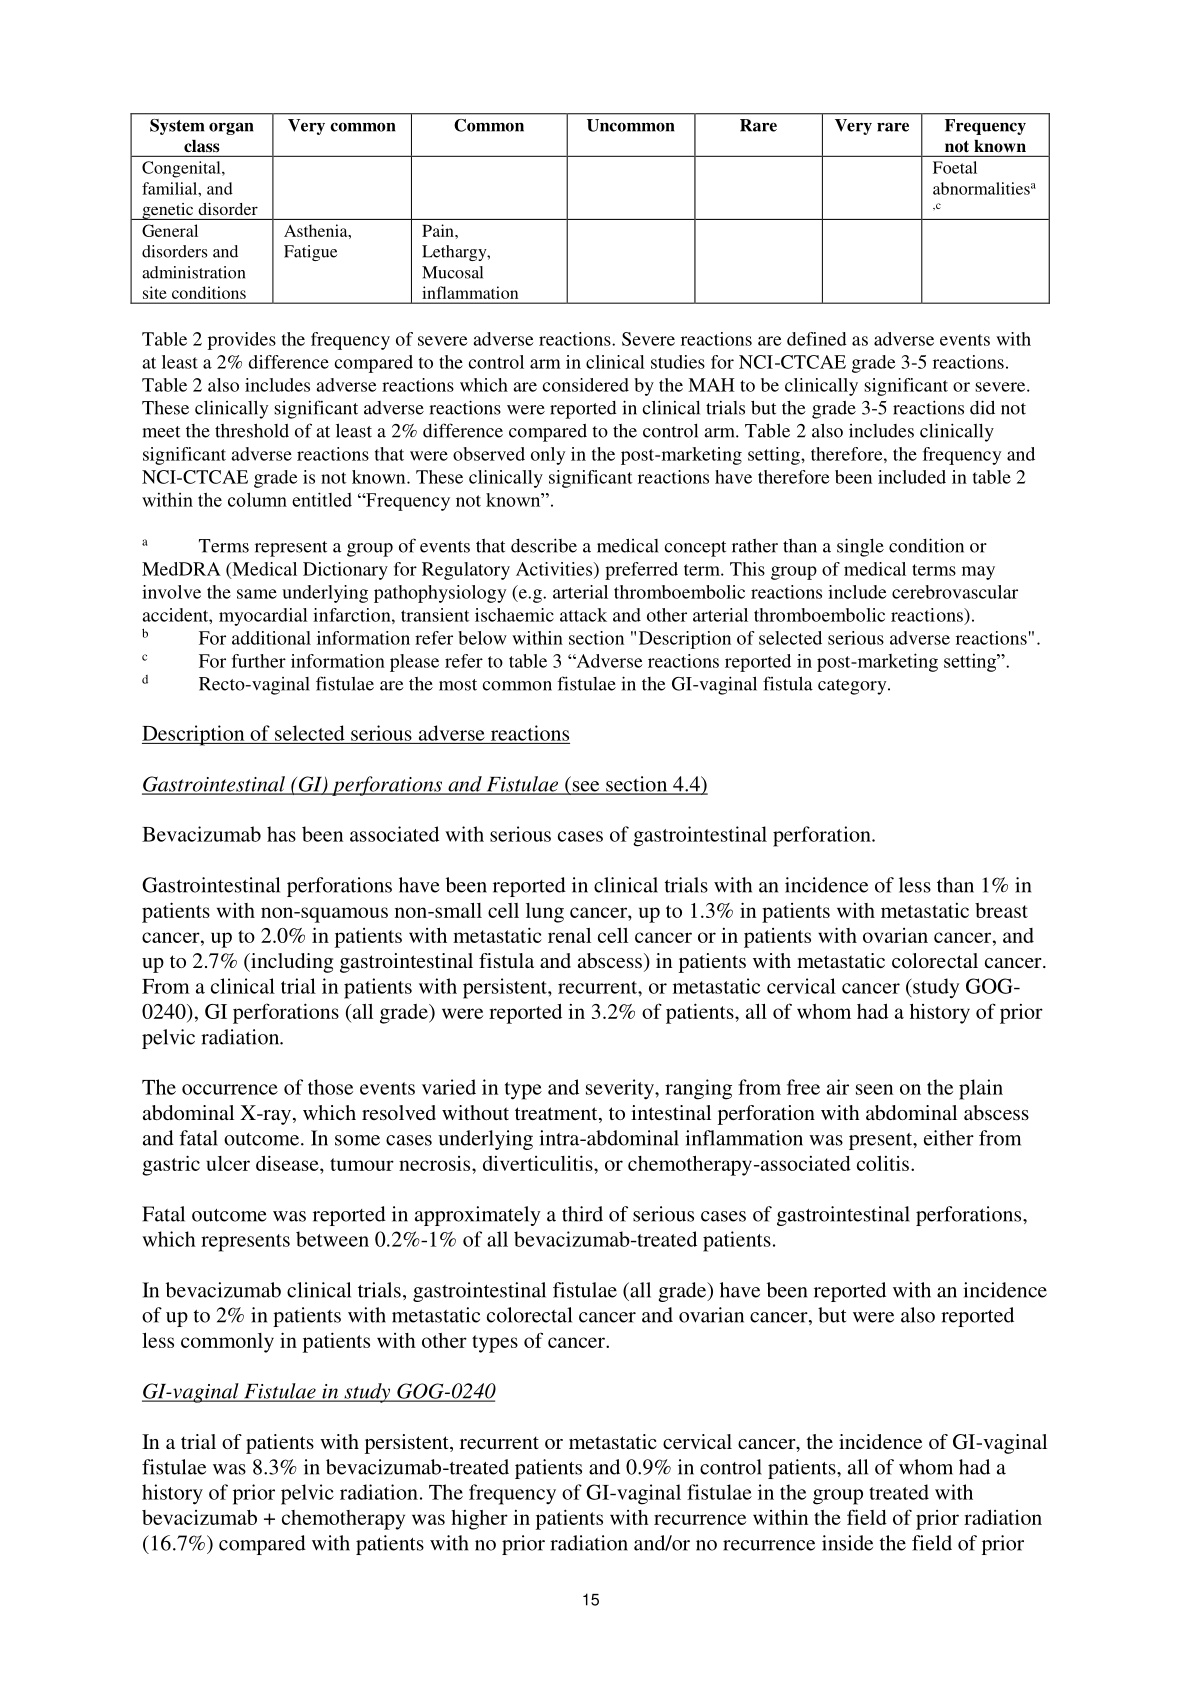full_lined: (129, 112, 1051, 306)
